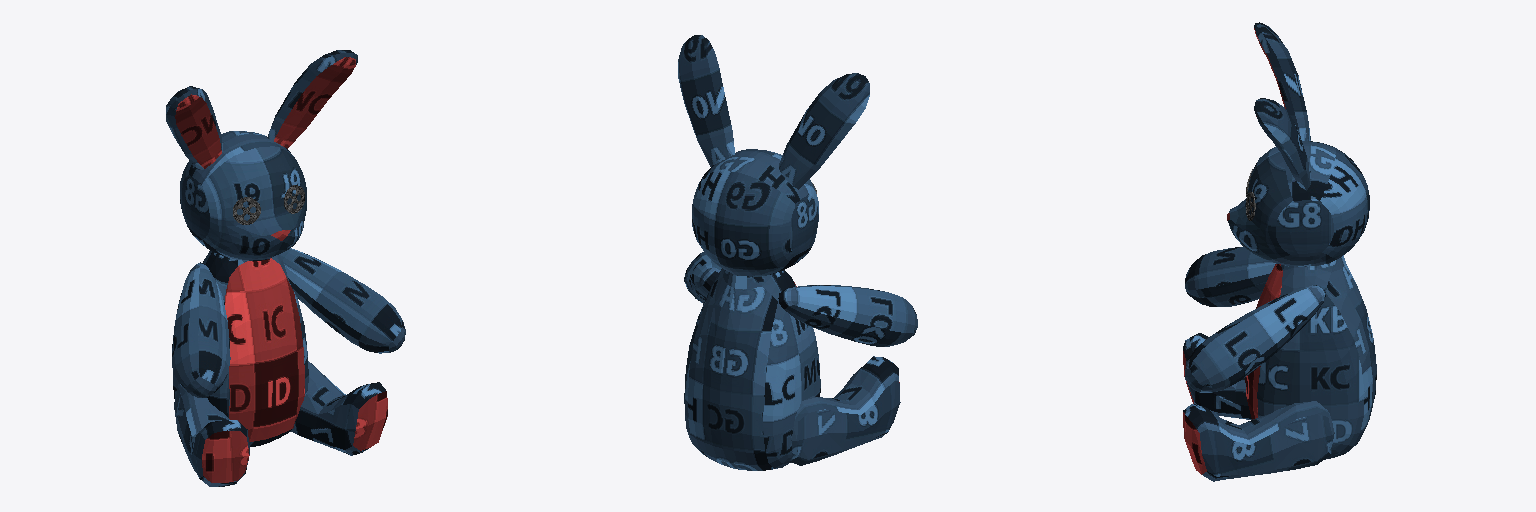
3 renders of one model, left to right at view 1: azimuth 30°, elevation 25°; view 2: azimuth 150°, elevation 25°; view 3: azimuth 270°, elevation 25°, orthographic.
Parts seen in each view (by area): view 1: Rabbit Torso, Rabbit Head, Left Rabbit Arm_L, Rabbit Arm_R Right, Left Rabbit Leg_L, Rabbit Right Leg_R, Ear_L Left Rabbit, Rabbit Right Ear_R, Left Rabbit Eye_L; view 2: Rabbit Torso, Rabbit Head, Rabbit Right Leg_R, Rabbit Arm_R Right, Rabbit Right Ear_R, Ear_L Left Rabbit, Left Rabbit Arm_L; view 3: Rabbit Torso, Rabbit Head, Left Rabbit Leg_L, Left Rabbit Arm_L, Rabbit Arm_R Right, Rabbit Right Ear_R, Ear_L Left Rabbit, Rabbit Right Leg_R.
Part boxes in pixels (x1,y1,x2,y2): Rabbit Torso: (172, 251, 308, 446); Rabbit Head: (180, 131, 306, 260); Left Rabbit Arm_L: (279, 248, 405, 353); Rabbit Arm_R Right: (172, 262, 230, 397); Left Rabbit Leg_L: (290, 361, 387, 455); Rabbit Right Leg_R: (174, 384, 249, 486); Ear_L Left Rabbit: (267, 50, 357, 148); Rabbit Right Ear_R: (166, 86, 222, 169); Left Rabbit Eye_L: (233, 185, 304, 224); Rabbit Torso: (684, 268, 820, 470); Rabbit Head: (692, 149, 818, 276); Rabbit Right Leg_R: (789, 356, 900, 465); Rabbit Arm_R Right: (778, 285, 917, 346); Rabbit Right Ear_R: (779, 73, 869, 189); Ear_L Left Rabbit: (678, 35, 734, 166); Left Rabbit Arm_L: (684, 252, 721, 303); Rabbit Torso: (1245, 255, 1376, 459); Rabbit Head: (1227, 141, 1369, 266); Left Rabbit Leg_L: (1183, 401, 1334, 481); Left Rabbit Arm_L: (1185, 285, 1325, 392); Rabbit Arm_R Right: (1185, 247, 1275, 306); Rabbit Right Ear_R: (1254, 22, 1310, 140); Ear_L Left Rabbit: (1254, 98, 1310, 190); Rabbit Right Leg_R: (1183, 333, 1251, 419).
Bounding box in the file's own units: 4.49 × 7.47 × 3.4.
3 materials, 3 textured.